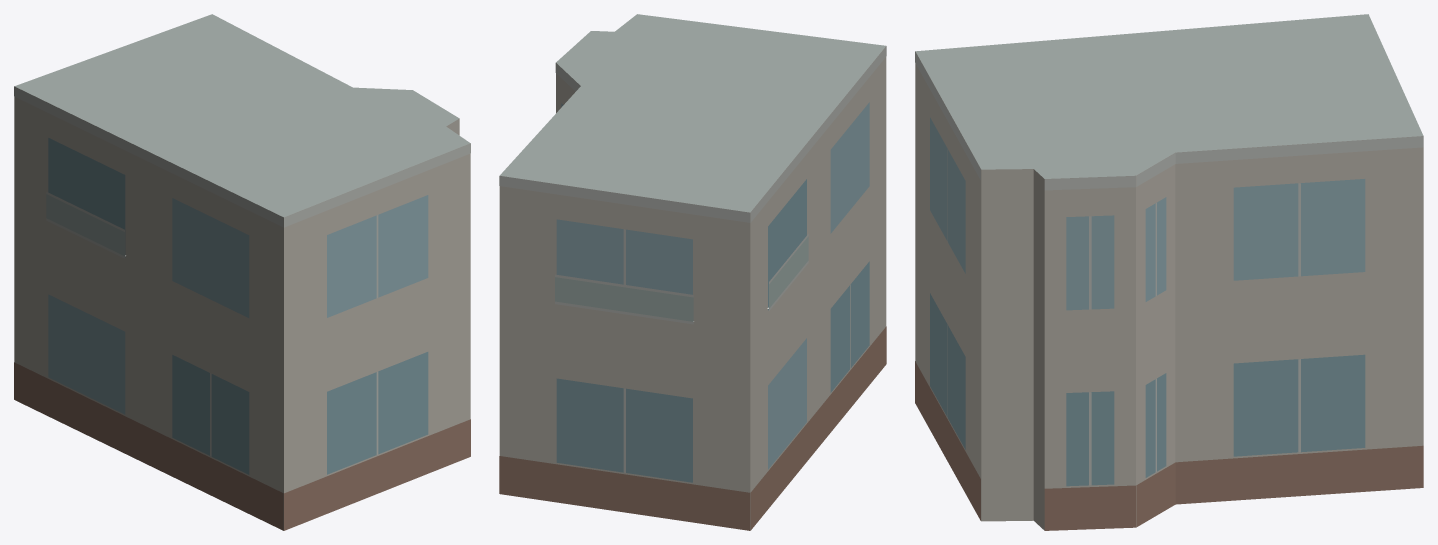
The model's file is survey-upis-32967804.glb.
3 views of the same model, side by side, from view 1: azimuth 30°, elevation 25°; view 2: azimuth 150°, elevation 25°; view 3: azimuth 270°, elevation 25° (orthographic). The views are drawn at different scales.
Parts seen in each view (by area): view 1: survey-upis-32967804.tmp; view 2: survey-upis-32967804.tmp; view 3: survey-upis-32967804.tmp.
Part boxes in pixels (x1,y1,x2,y2): survey-upis-32967804.tmp: (14,14,470,530); survey-upis-32967804.tmp: (499,14,886,530); survey-upis-32967804.tmp: (915,14,1423,530).
Bounding box in the file's own units: 7.55 × 7.5 × 9.83.
